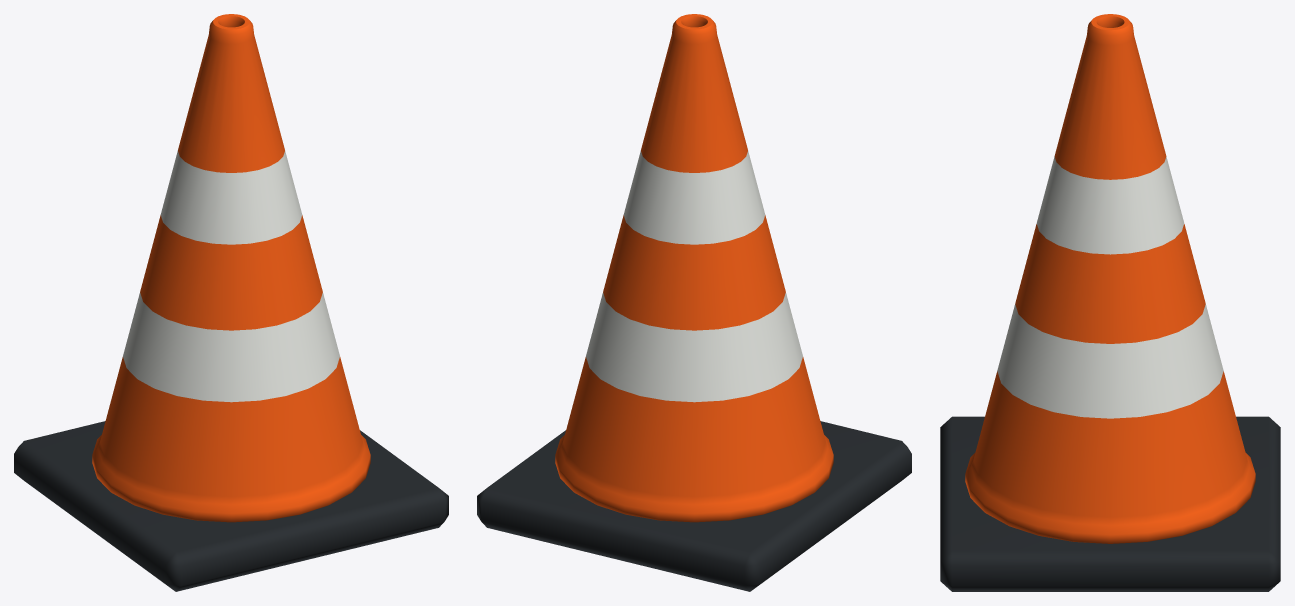
The model's file is DS_TrafficCone.glb.
3 views of the same model, side by side, from view 1: azimuth 30°, elevation 25°; view 2: azimuth 150°, elevation 25°; view 3: azimuth 270°, elevation 25° (orthographic). The views are drawn at different scales.
Visible parts, largest first — view 1: DS_TrafficCone; view 2: DS_TrafficCone; view 3: DS_TrafficCone.
Part boxes in pixels (bbox=[...]): DS_TrafficCone: bbox=[14, 14, 448, 591]; DS_TrafficCone: bbox=[477, 14, 911, 591]; DS_TrafficCone: bbox=[940, 14, 1280, 591].
Bounding box in the file's own units: 0.46 × 0.75 × 0.46.
